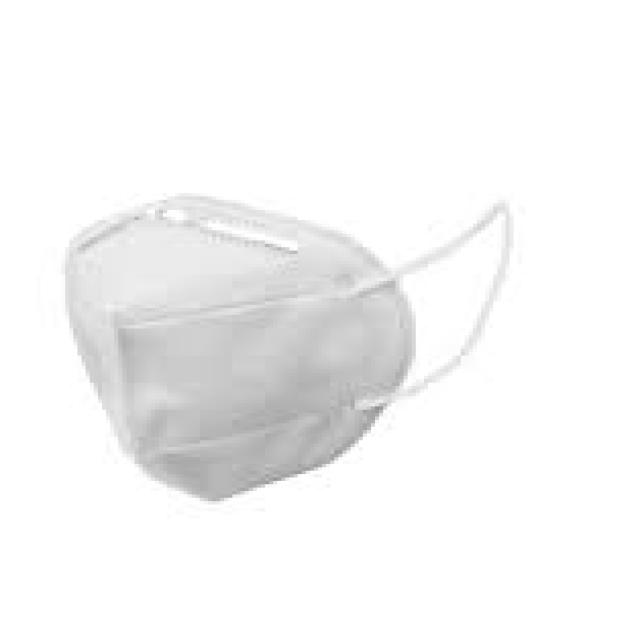organic: (29, 160, 537, 520)
